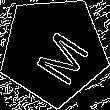M_NW: (21, 18, 86, 84)
